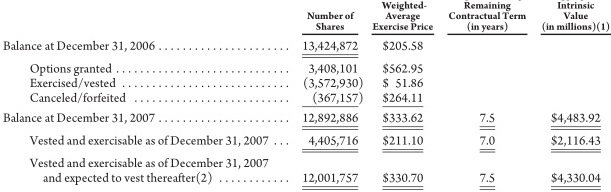column: (3, 1, 289, 192), (447, 1, 527, 192), (541, 1, 611, 189), (301, 1, 364, 192), (372, 1, 434, 192)
row: (1, 157, 611, 170), (1, 40, 611, 52), (1, 63, 611, 75), (1, 92, 611, 104), (1, 112, 611, 124), (1, 135, 611, 147), (1, 78, 611, 89), (1, 173, 611, 184), (1, 1, 611, 11), (1, 11, 611, 21), (1, 22, 611, 31)
